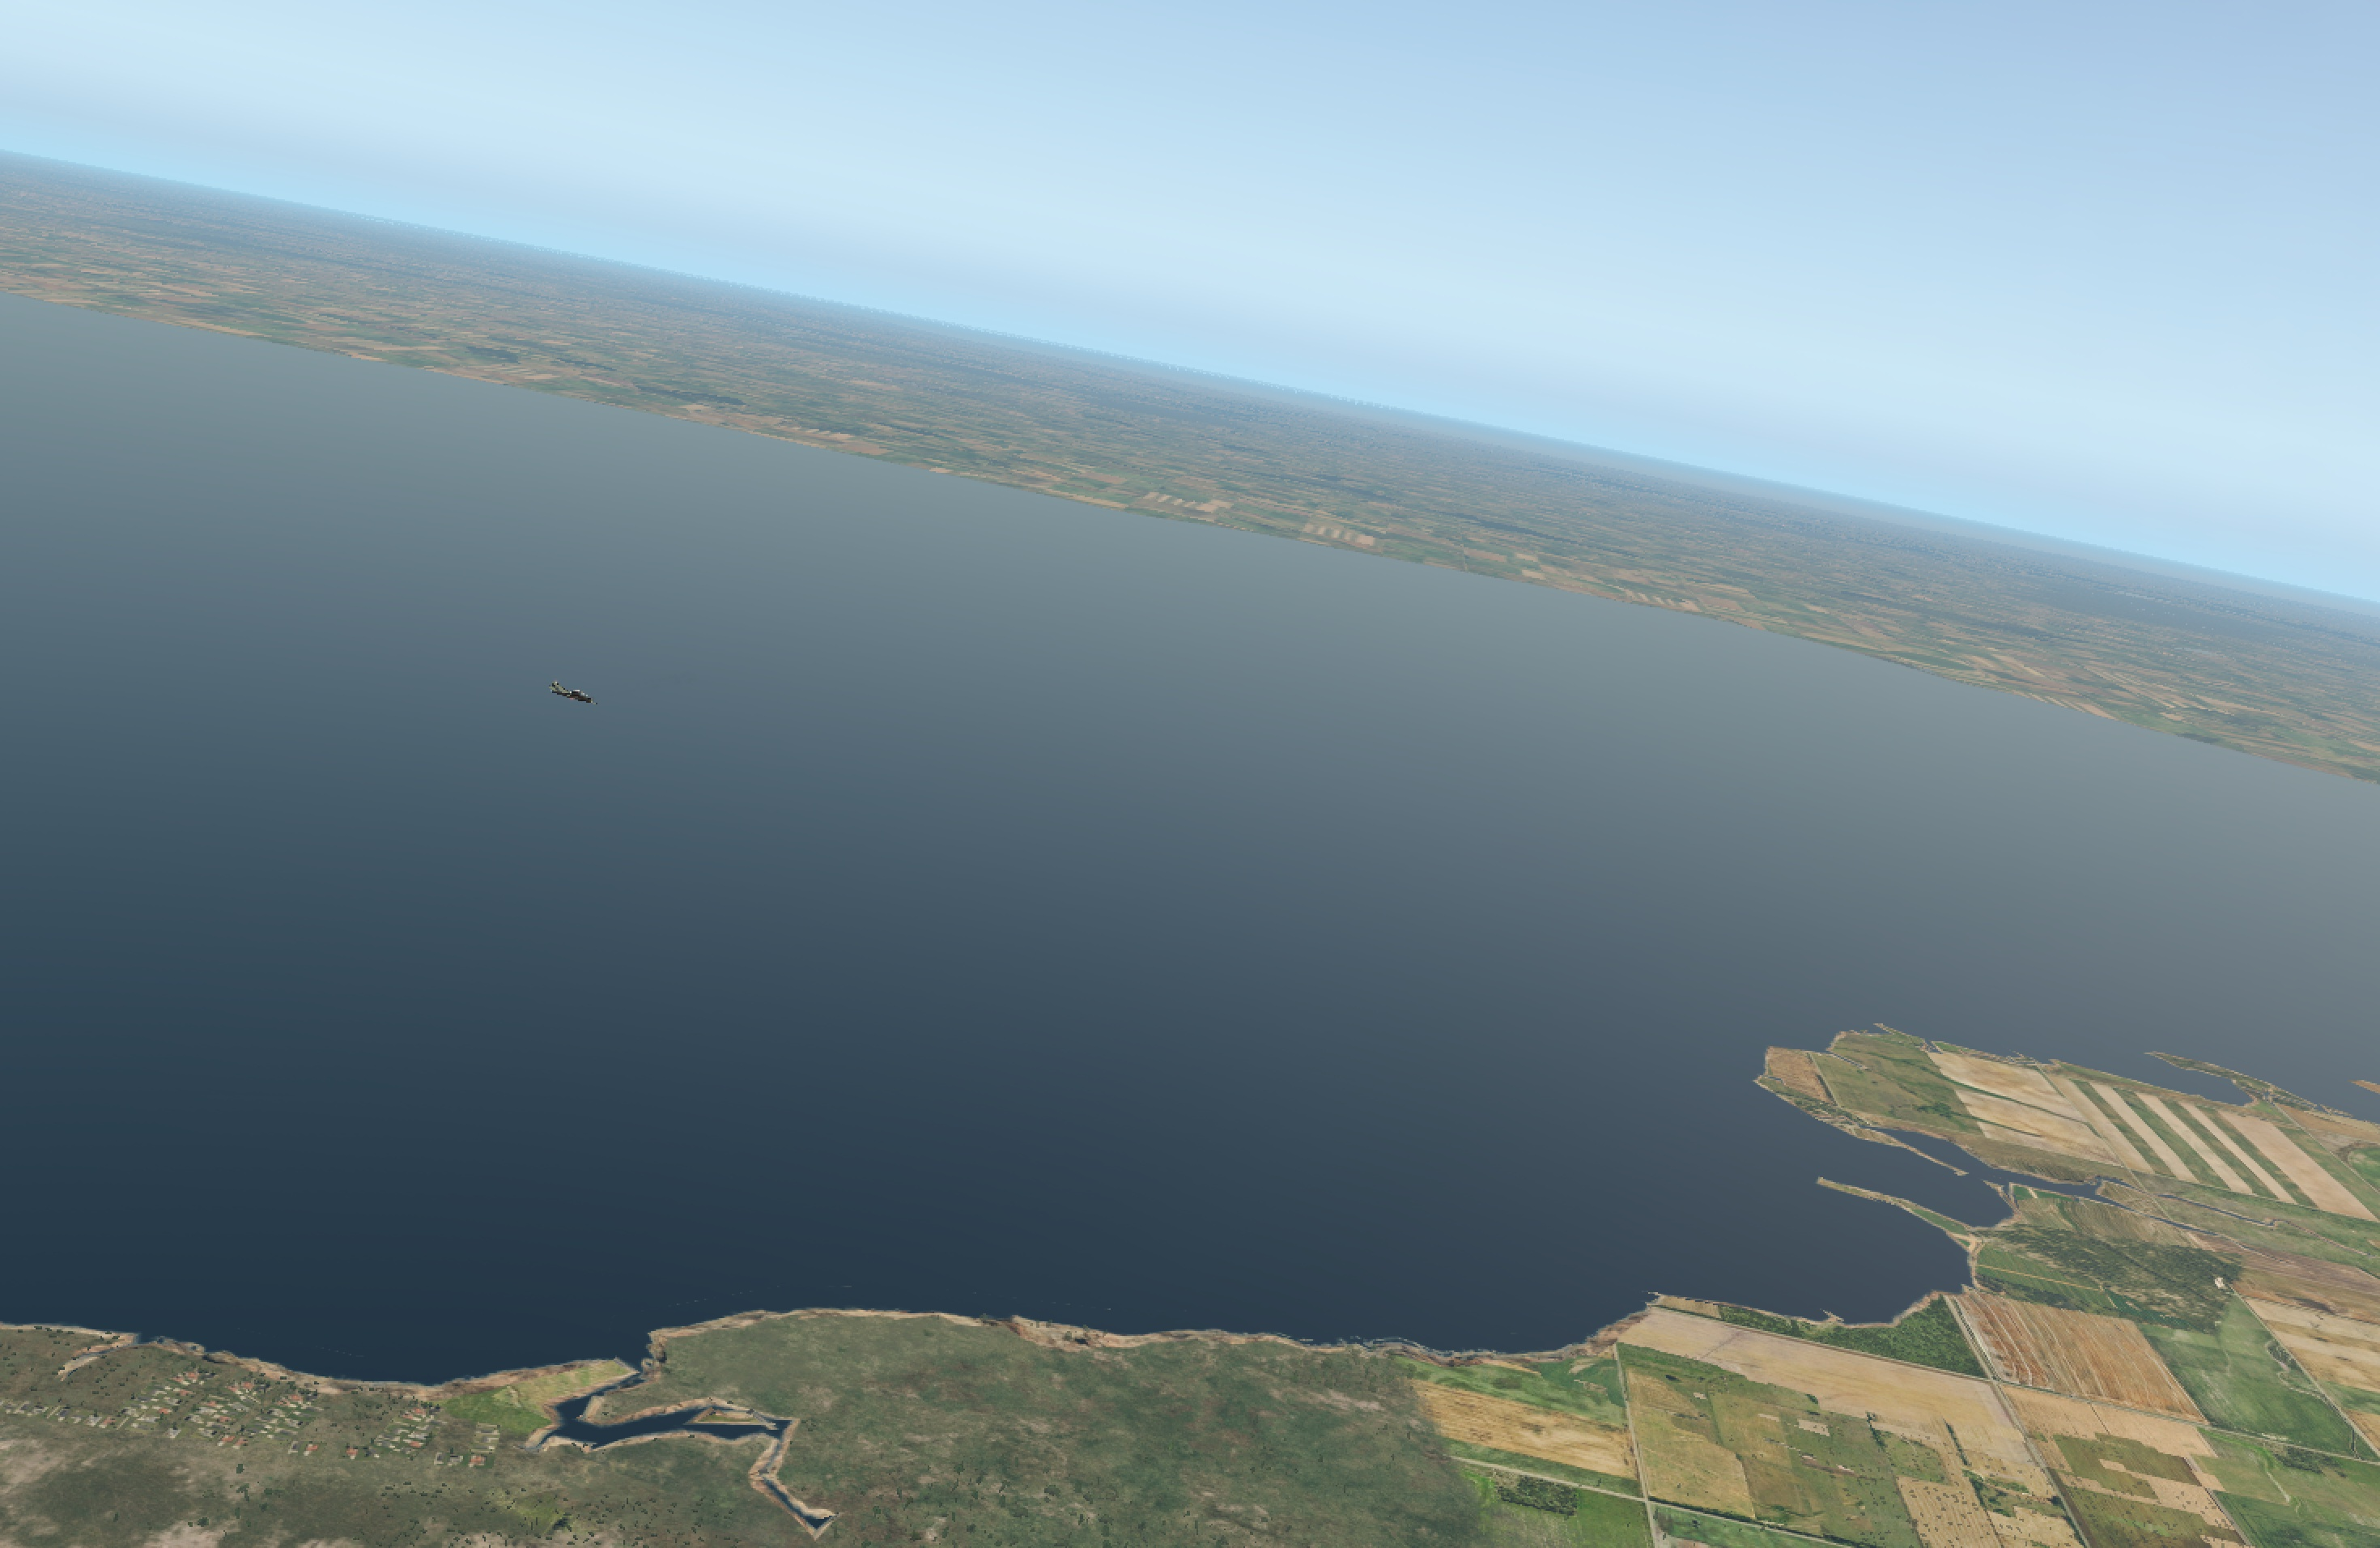aircraft: (541, 685, 611, 712)
